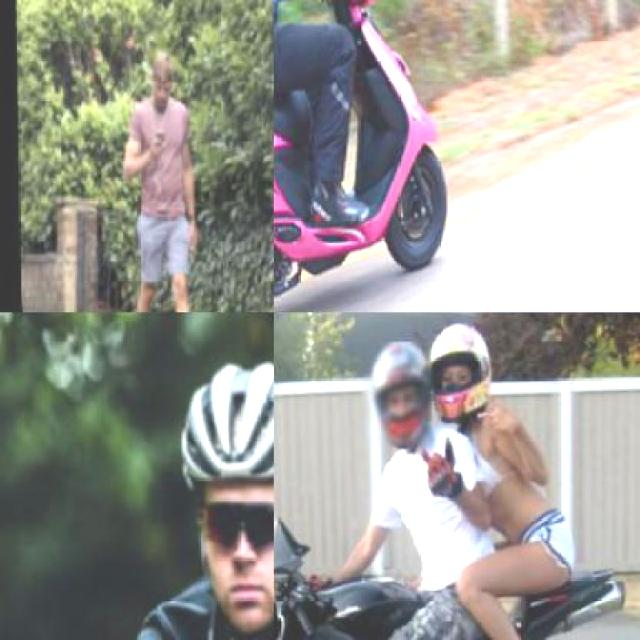With Helmet: (150, 352, 272, 638), (352, 343, 440, 462), (416, 324, 504, 442)
